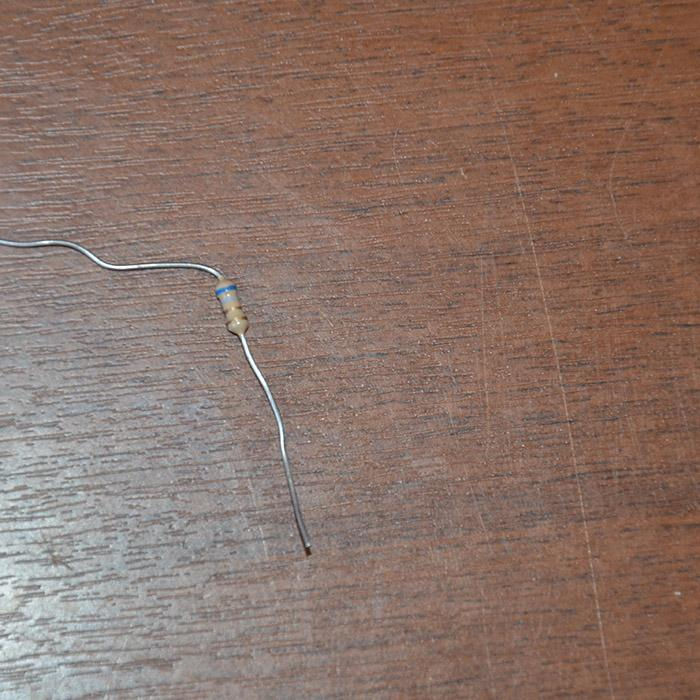resistor: (213, 277, 248, 335)
